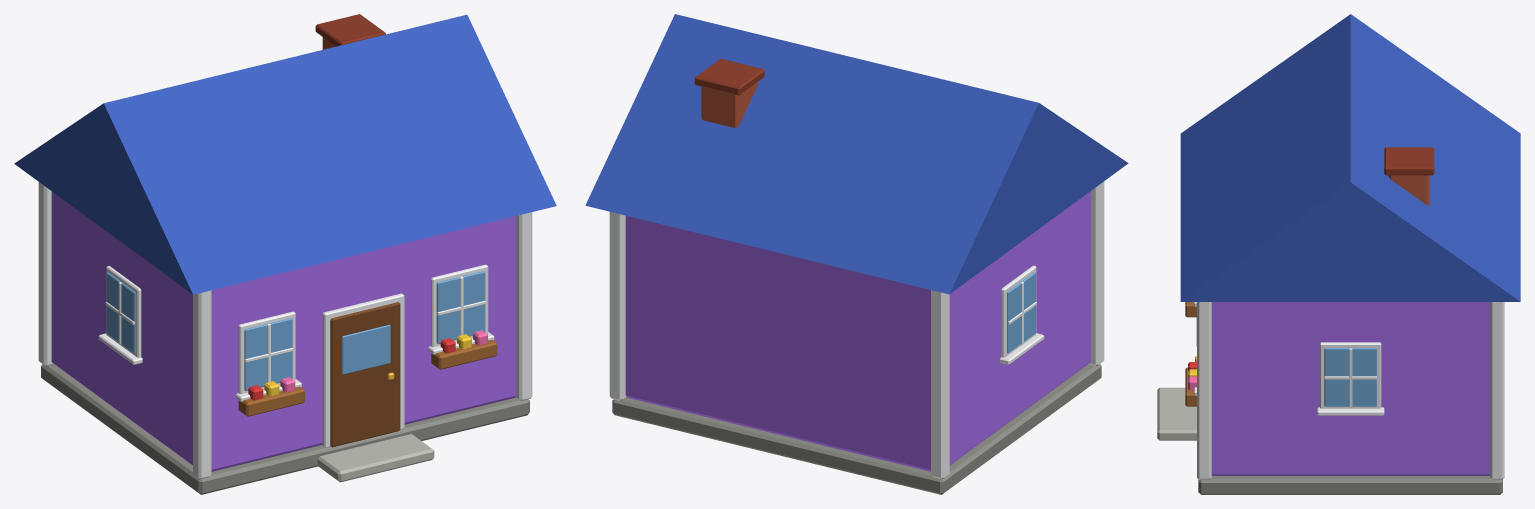
File: PurpleHouse.fbx
3 renders of one model, left to right at view 1: azimuth 30°, elevation 25°; view 2: azimuth 150°, elevation 25°; view 3: azimuth 270°, elevation 25°, orthographic. The views are drawn at different scales.
Visible parts, largest first — view 1: PurpleHouse; view 2: PurpleHouse; view 3: PurpleHouse.
Boxes of the visible parts, x1,y1,x2,y2 form: PurpleHouse: (14, 14, 556, 494); PurpleHouse: (585, 14, 1128, 494); PurpleHouse: (1157, 14, 1520, 494).
Size of the model in its own units: 13.6 by 12.1 by 12.4.
1 material, 1 textured.
